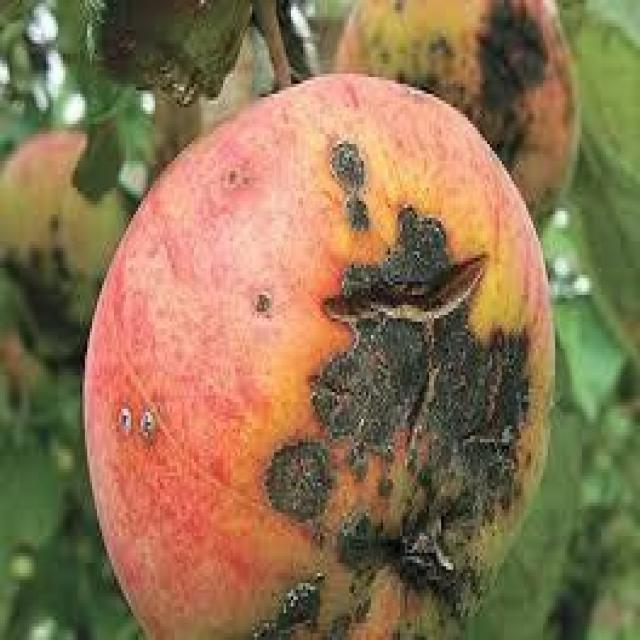Rotten: (91, 83, 556, 640)
